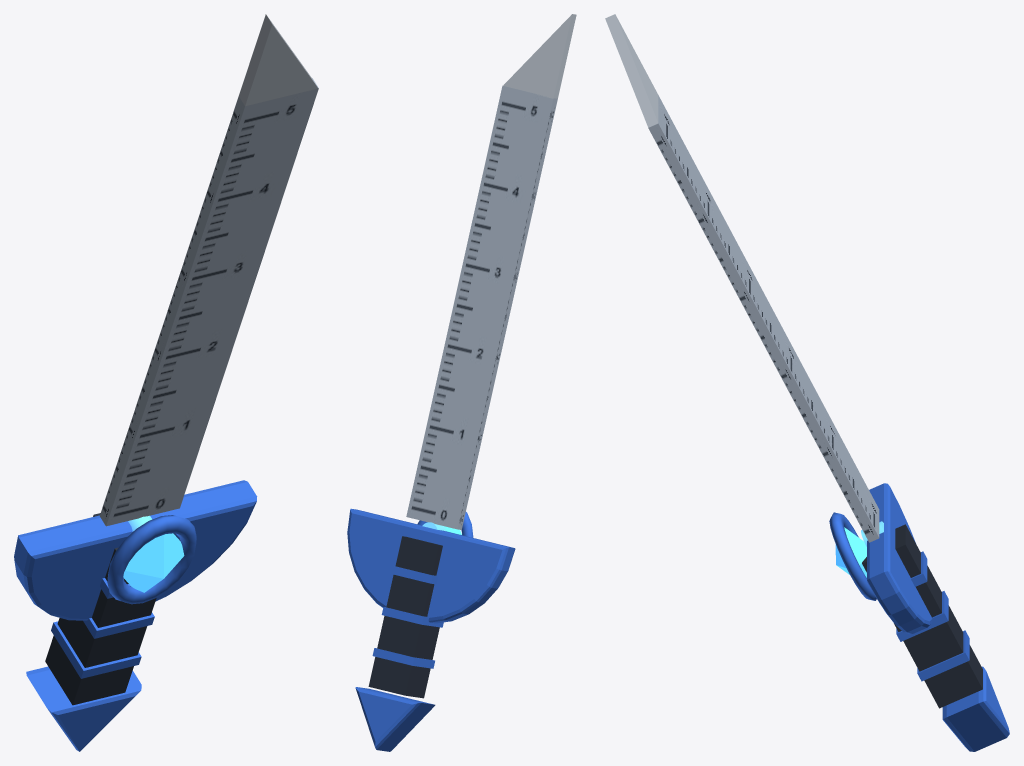
Rendered from hand_eqsu1.glb.
3 views of the same model, side by side, from view 1: azimuth 30°, elevation 25°; view 2: azimuth 150°, elevation 25°; view 3: azimuth 270°, elevation 25° (orthographic). The views are drawn at different scales.
Size of the model in its own units: 1.27 by 4.83 by 2.45.
Materials: 6 (1 with a texture image).
